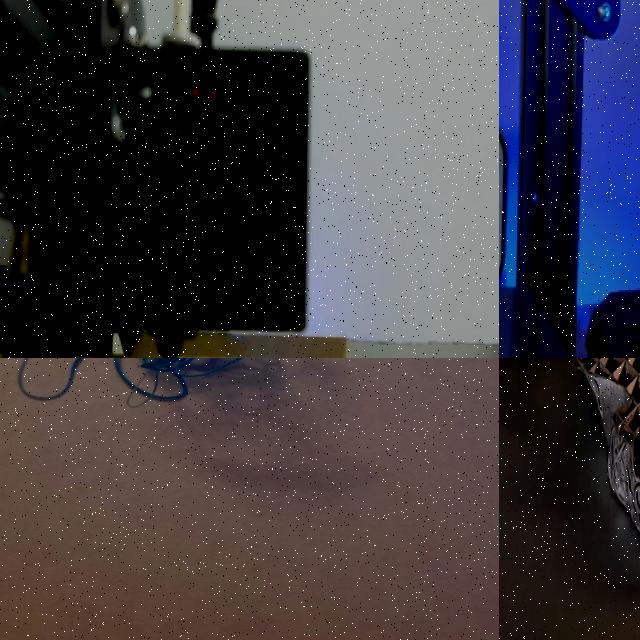spaghetti: (2, 358, 323, 415)
